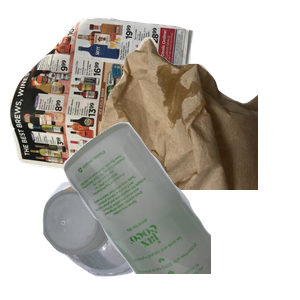glass: (60, 120, 300, 300)
paper: (10, 15, 196, 195)
plastic: (40, 170, 187, 300)
trash: (60, 35, 300, 215)
